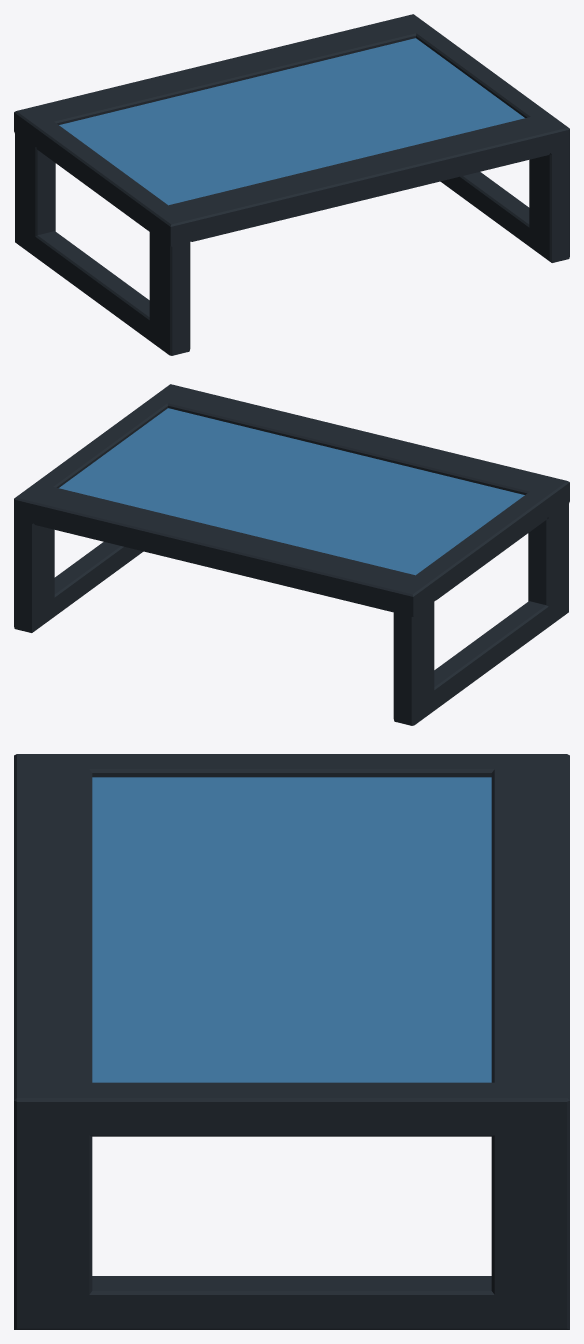
File: Mesa_de_centro_corregida.fbx
The picture shows the model from 3 angles, top to bottom: view 1: azimuth 30°, elevation 25°; view 2: azimuth 150°, elevation 25°; view 3: azimuth 270°, elevation 25°; orthographic projection. The views are drawn at different scales.
Parts seen in each view (by area): view 1: base1; view 2: base1; view 3: base1.
Boxes of the visible parts, x1,y1,x2,y2 form: base1: (14, 14, 569, 355); base1: (14, 384, 569, 725); base1: (14, 754, 569, 1329).
Bounding box in the file's own units: 115 × 35.93 × 78.
